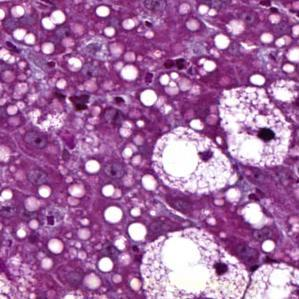ballooning: (136, 224, 252, 297), (216, 84, 295, 171), (150, 126, 240, 198), (244, 259, 297, 296)
